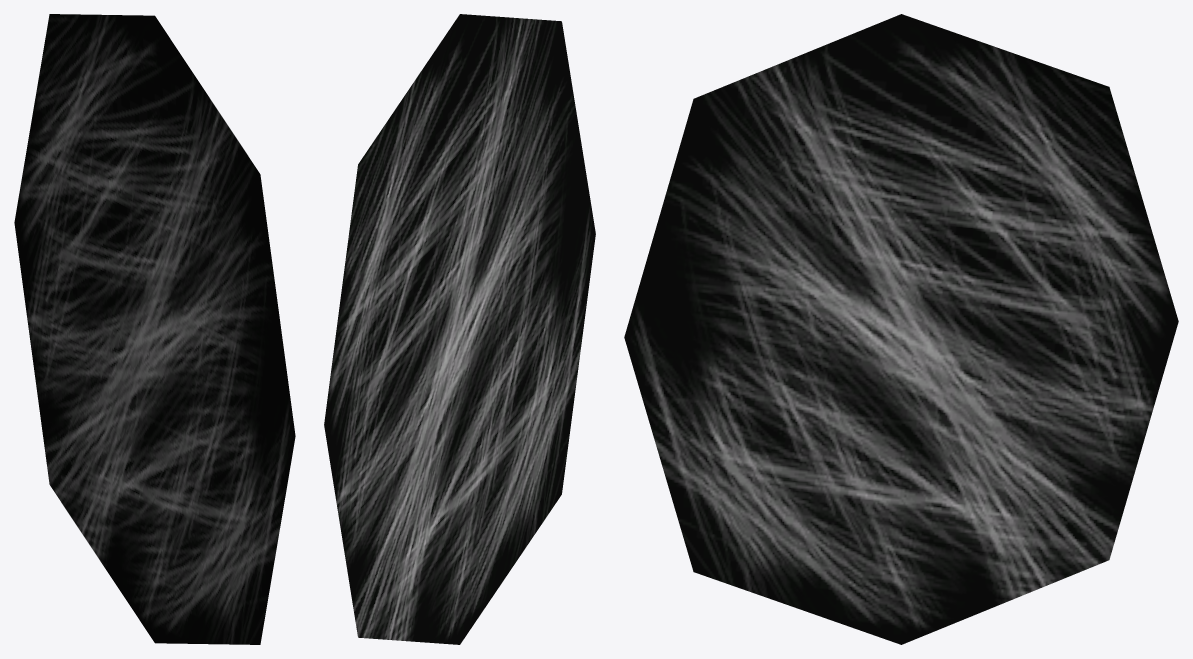
File: MIRKWOOD_SPIDERWEB_COVERS06.fbx
3 renders of one model, left to right at view 1: azimuth 30°, elevation 25°; view 2: azimuth 150°, elevation 25°; view 3: azimuth 270°, elevation 25°, orthographic.
Parts seen in each view (by area): view 1: MIRKWOOD_SPIDERWEB_COVERS06; view 2: MIRKWOOD_SPIDERWEB_COVERS06; view 3: MIRKWOOD_SPIDERWEB_COVERS06.
Part boxes in pixels (x1=…): MIRKWOOD_SPIDERWEB_COVERS06: x1=14, y1=14, x2=295, y2=644; MIRKWOOD_SPIDERWEB_COVERS06: x1=324, y1=14, x2=595, y2=644; MIRKWOOD_SPIDERWEB_COVERS06: x1=624, y1=14, x2=1178, y2=644.
Size of the model in its own units: 646 by 71741 by 57134.
Materials: 1 (1 with a texture image).
